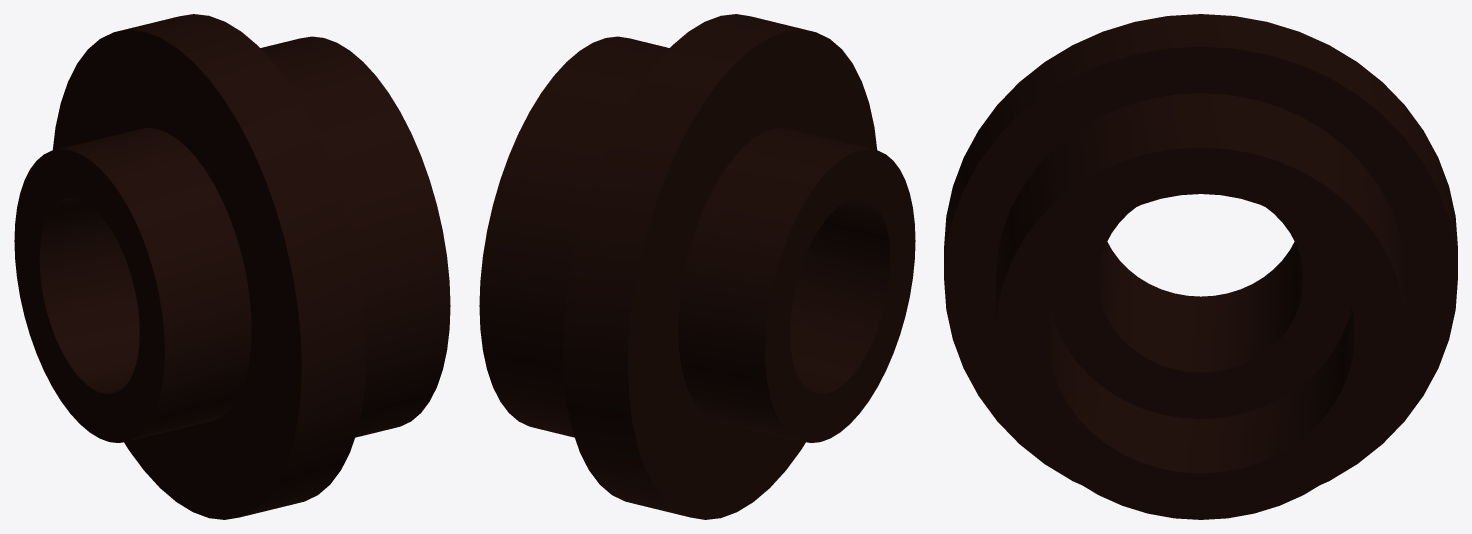
Rendered from plate_round1*1_with_open_stud_reddish_brown.obj.
The picture shows the model from 3 angles, left to right: view 1: azimuth 30°, elevation 25°; view 2: azimuth 150°, elevation 25°; view 3: azimuth 270°, elevation 25°; orthographic projection. The views are drawn at different scales.
Bounding box in the file's own units: 12 × 20 × 20.
